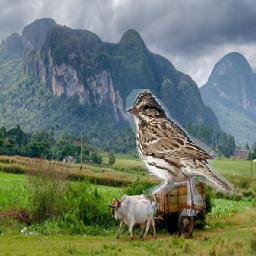Sparrow: (127, 90, 234, 217)
